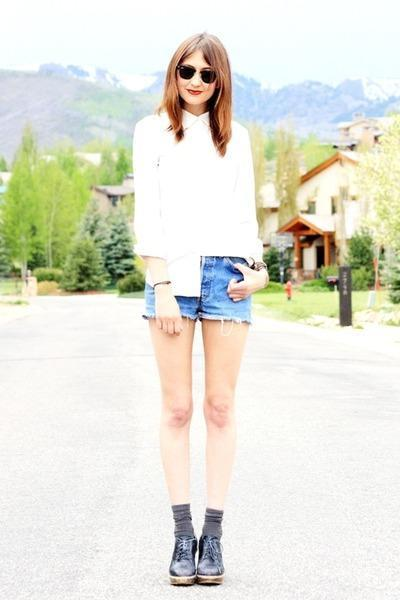shirt: (133, 111, 268, 324)
shoe: (169, 504, 224, 586)
shorts: (132, 256, 252, 321)
sunglass: (175, 52, 216, 82)
